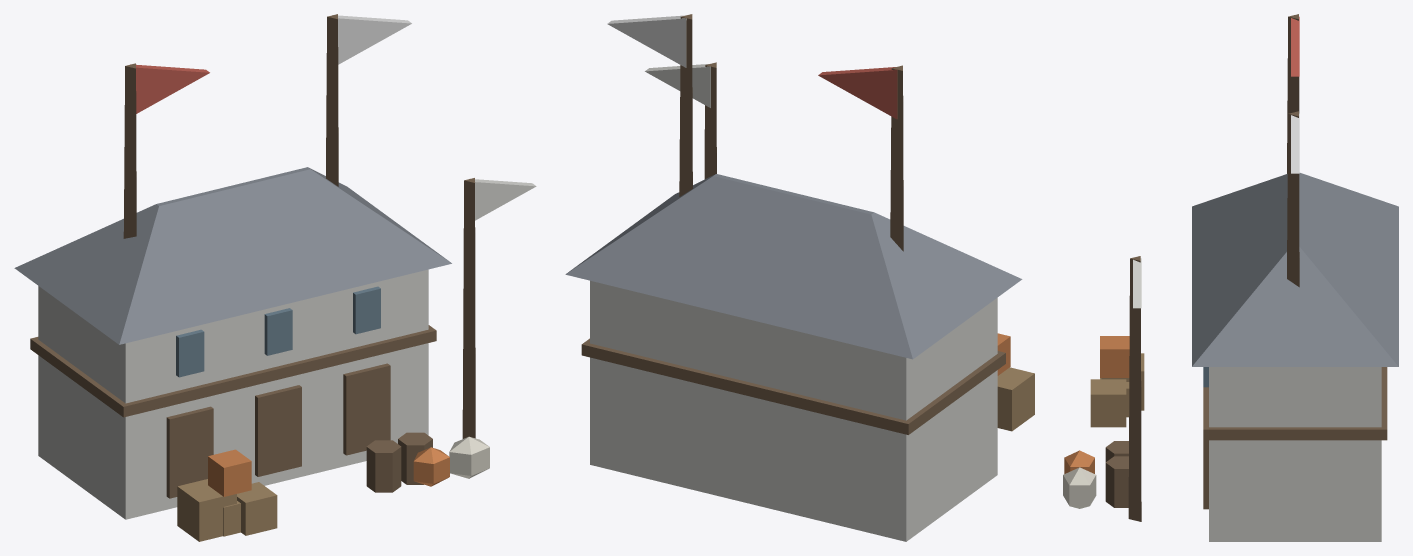
The model's file is national-east-india-company.glb.
3 renders of one model, left to right at view 1: azimuth 30°, elevation 25°; view 2: azimuth 150°, elevation 25°; view 3: azimuth 270°, elevation 25°, orthographic. The views are drawn at different scales.
Visible parts, largest first — view 1: LOD0; view 2: LOD0; view 3: LOD0.
Part boxes in pixels (left/top/right/bottom): LOD0: left=14, top=14, right=536, bottom=541; LOD0: left=565, top=14, right=1034, bottom=541; LOD0: left=1063, top=14, right=1398, bottom=541.
Size of what is drawn, in the model's own units: 0.307 by 0.31 by 0.2335.
